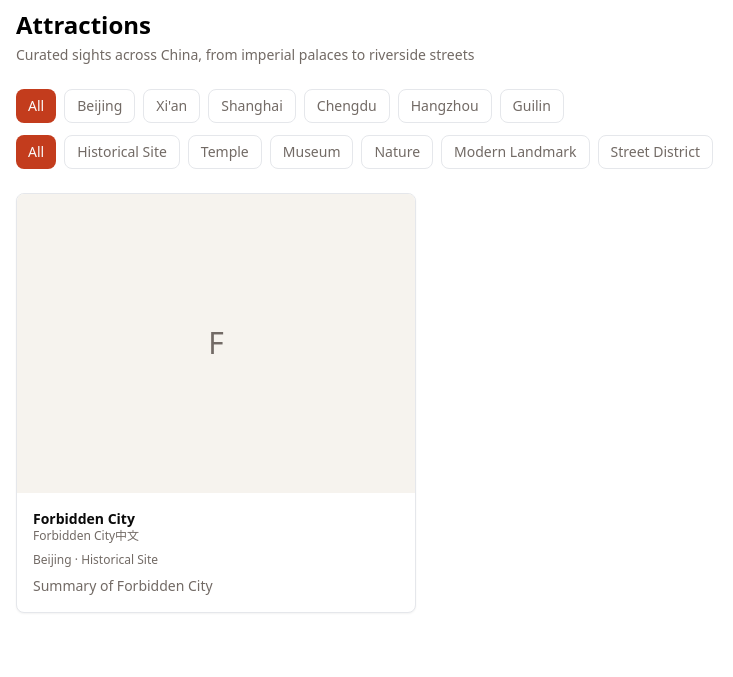
Test: AttractionsPage › refetches page 0 with the city filter and replaces the list
Check: the heading "Forbidden City" is shown, box [33, 508, 139, 528]
What coordinates should you click on to do the following:
click the button "Hangzhou"
I would click on:
 (445, 106)
Its box is [398, 89, 492, 123].
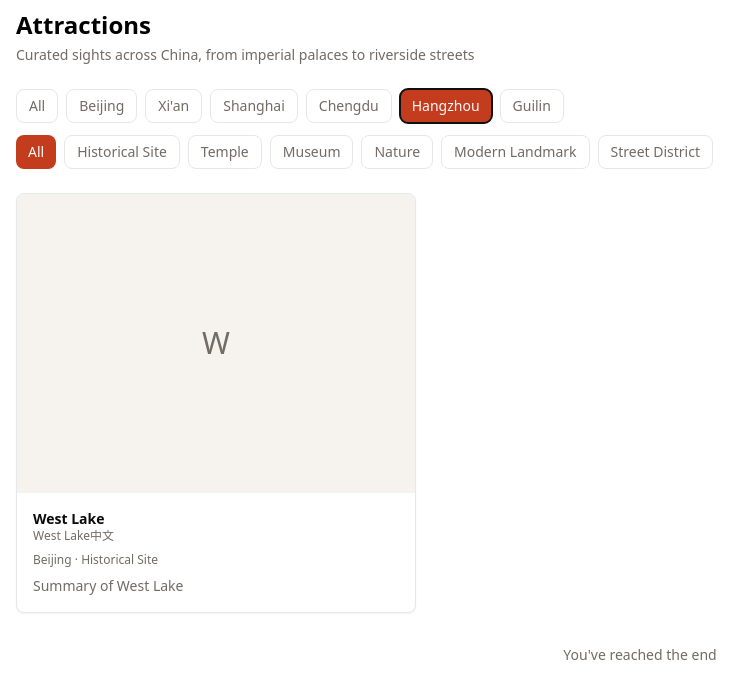
Check: the heading "West Lake" is shown, box [33, 508, 114, 528]
Check: the link "Forbidden City" is gone
